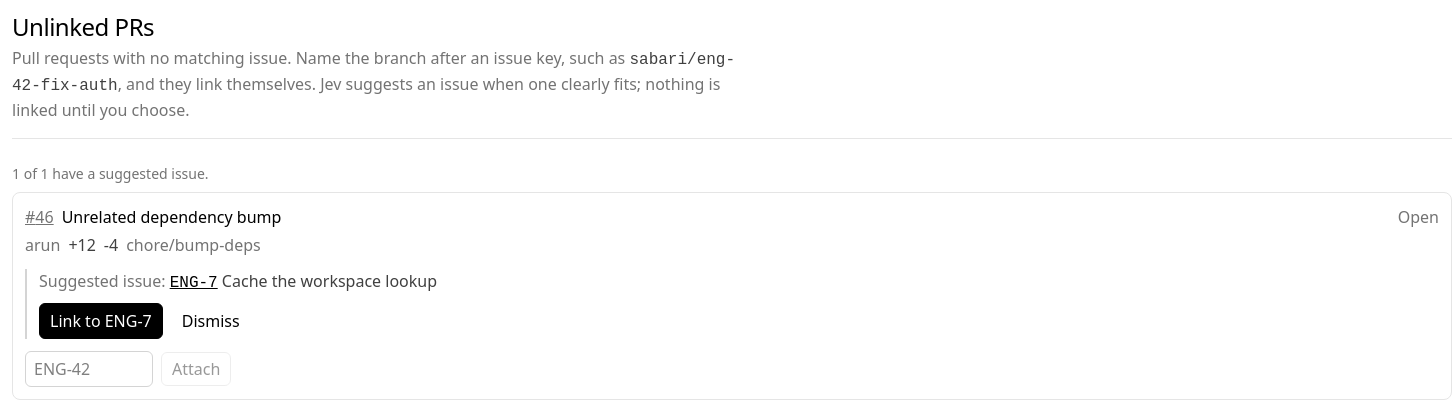
Test: UnlinkedPRs › offers Jev's suggestion and links it only when chosen
Check: the text "Suggested issue:" is shown, box [39,270,170,292]
Check: the text "Cache the workspace lookup" is shown, box [222,270,437,292]
Step 1. Click the button "Link to ENG-7" → (101, 321), box [39,303,163,339]
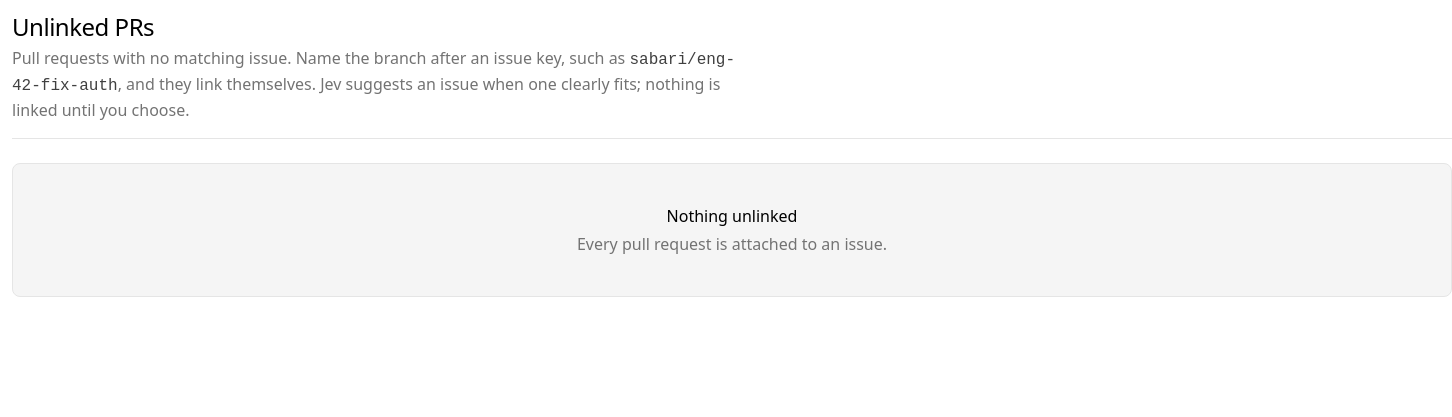
Check: the text "Nothing unlinked" is shown, box [667,205,798,227]
